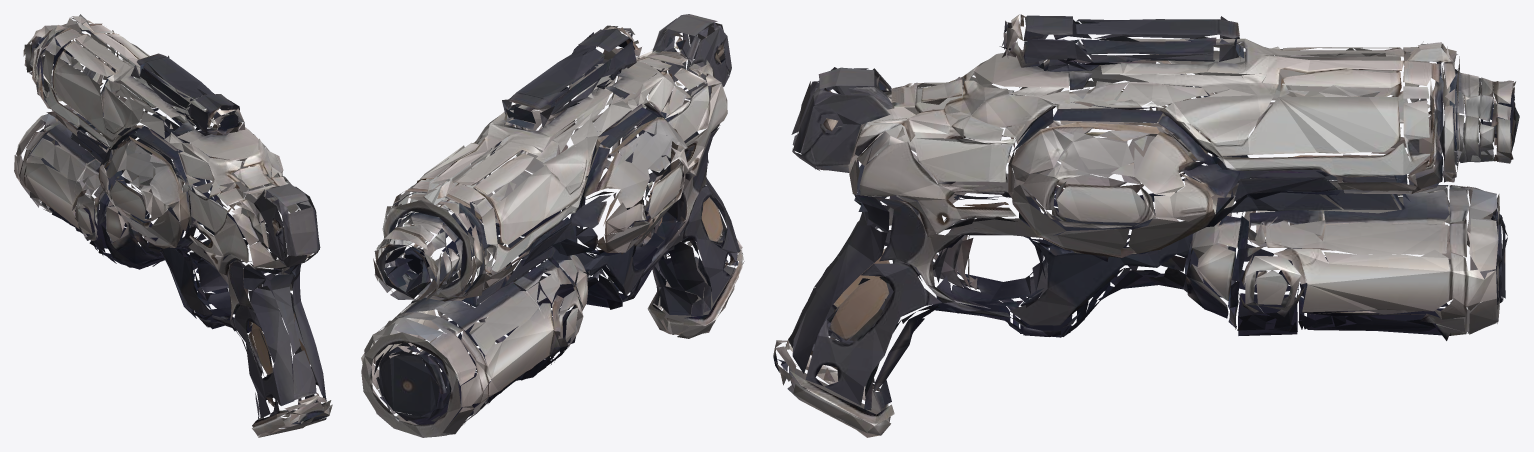
The model's file is nova_blaster.glb.
3 renders of one model, left to right at view 1: azimuth 30°, elevation 25°; view 2: azimuth 150°, elevation 25°; view 3: azimuth 270°, elevation 25°, orthographic. The views are drawn at different scales.
Visible parts, largest first — view 1: geometry_0; view 2: geometry_0; view 3: geometry_0.
Part boxes in pixels (x1=…): geometry_0: x1=14, y1=14, x2=332, y2=437; geometry_0: x1=361, y1=14, x2=744, y2=437; geometry_0: x1=773, y1=14, x2=1519, y2=437.
Size of the model in its own units: 0.6193 by 1.21 by 2.
1 material, 1 textured.
